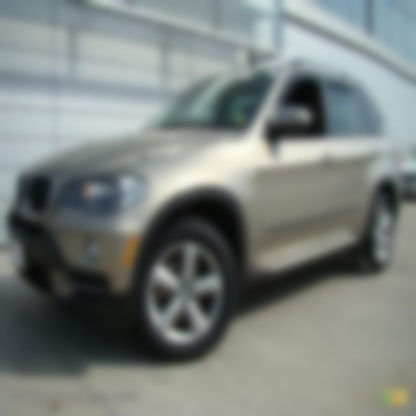Vehicle: (6, 58, 400, 359)
